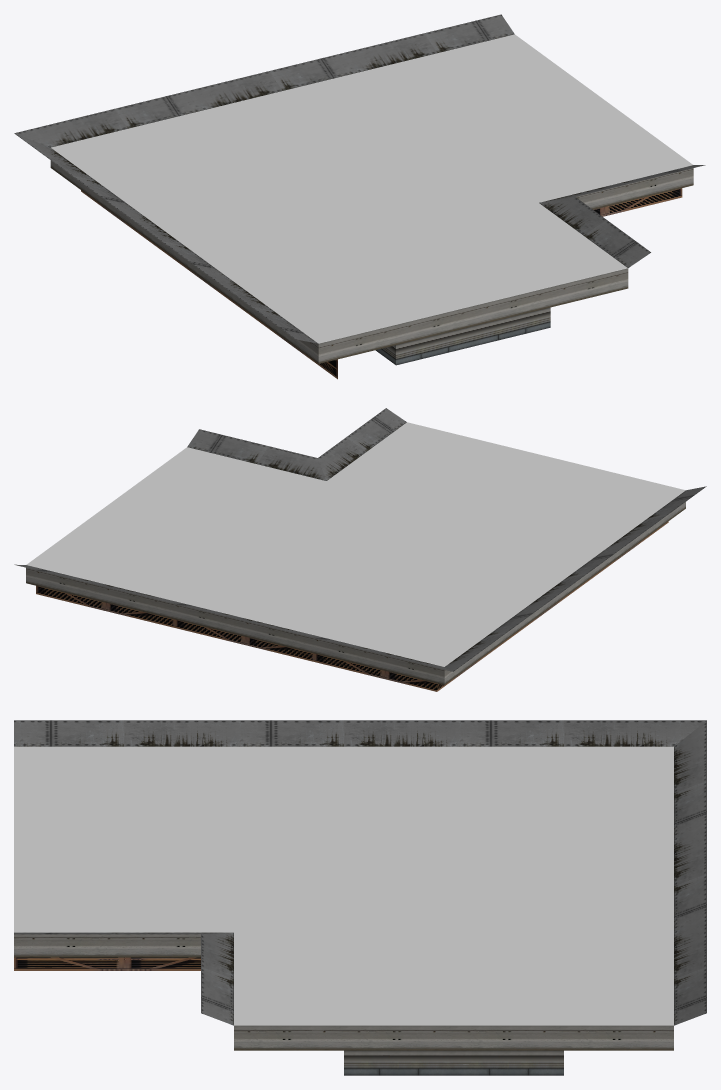
The model's file is Bend1x1B.fbx.
3 views of the same model, one above another, from view 1: azimuth 30°, elevation 25°; view 2: azimuth 150°, elevation 25°; view 3: azimuth 270°, elevation 25° (orthographic). The views are drawn at different scales.
Parts seen in each view (by area): view 1: Empty_Mesh; view 2: Empty_Mesh; view 3: Empty_Mesh.
Part boxes in pixels (x1=…): Empty_Mesh: x1=14, y1=14, x2=705, y2=379; Empty_Mesh: x1=14, y1=408, x2=706, y2=691; Empty_Mesh: x1=14, y1=720, x2=706, y2=1075.
Size of the model in its own units: 25.2 by 2.5 by 25.2.
